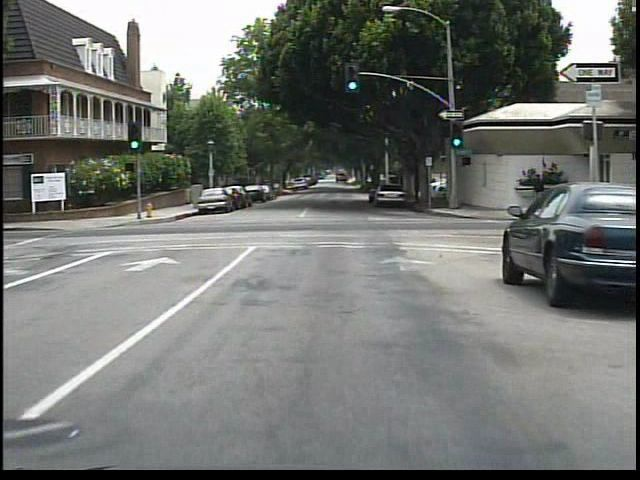person: (529, 170, 557, 221)
